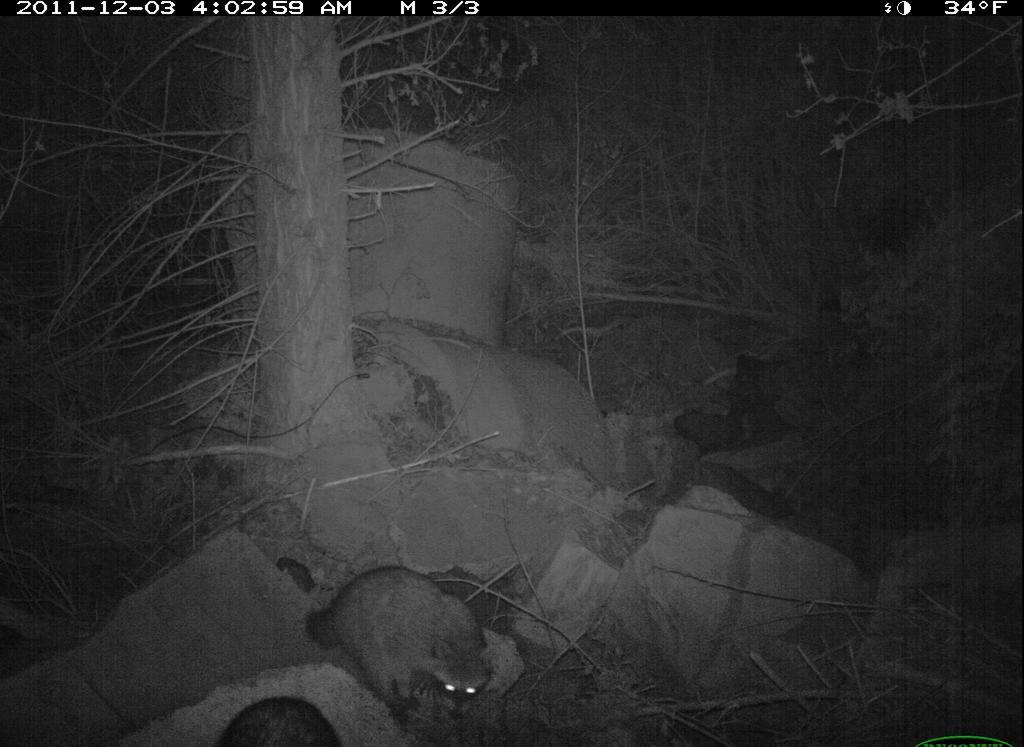raccoon: (297, 530, 515, 710), (196, 685, 353, 747)
